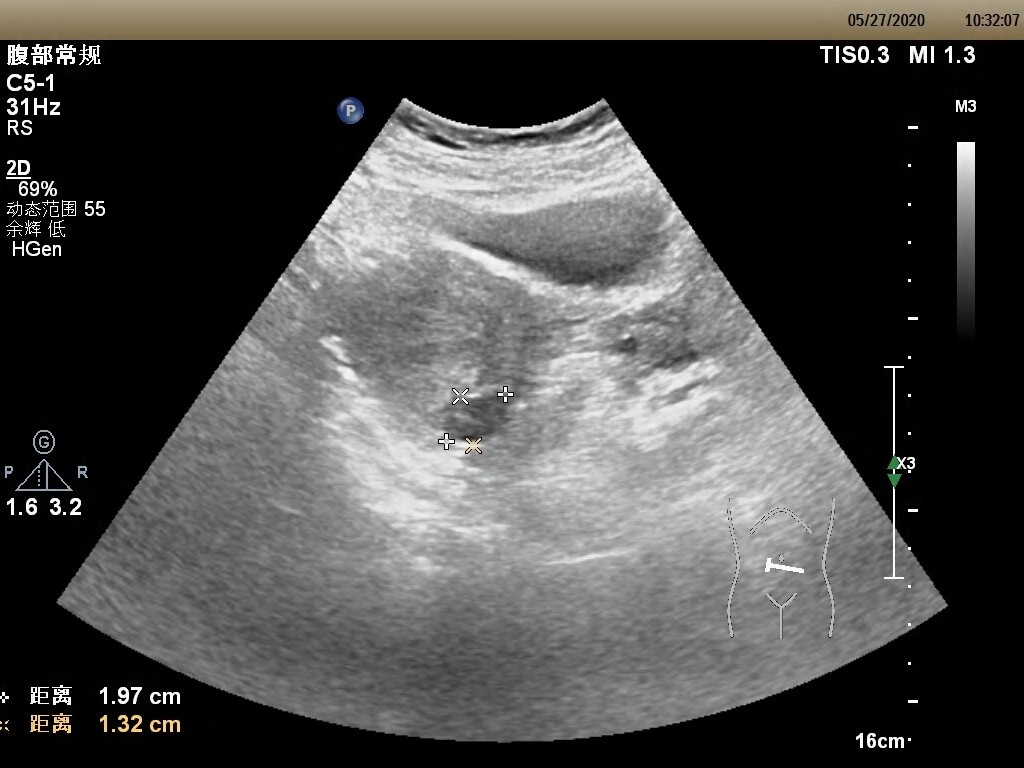肌瘤: (437, 391, 513, 442)
